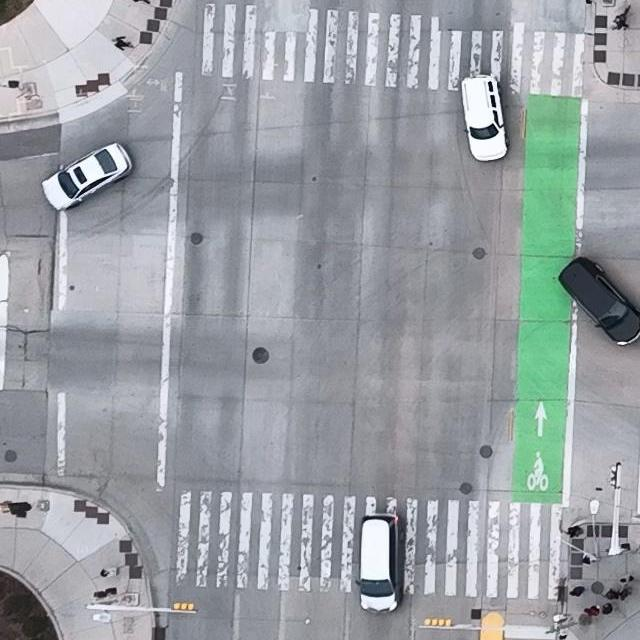car: (559, 256, 640, 348), (40, 141, 133, 211), (355, 513, 401, 613), (460, 74, 510, 162)
